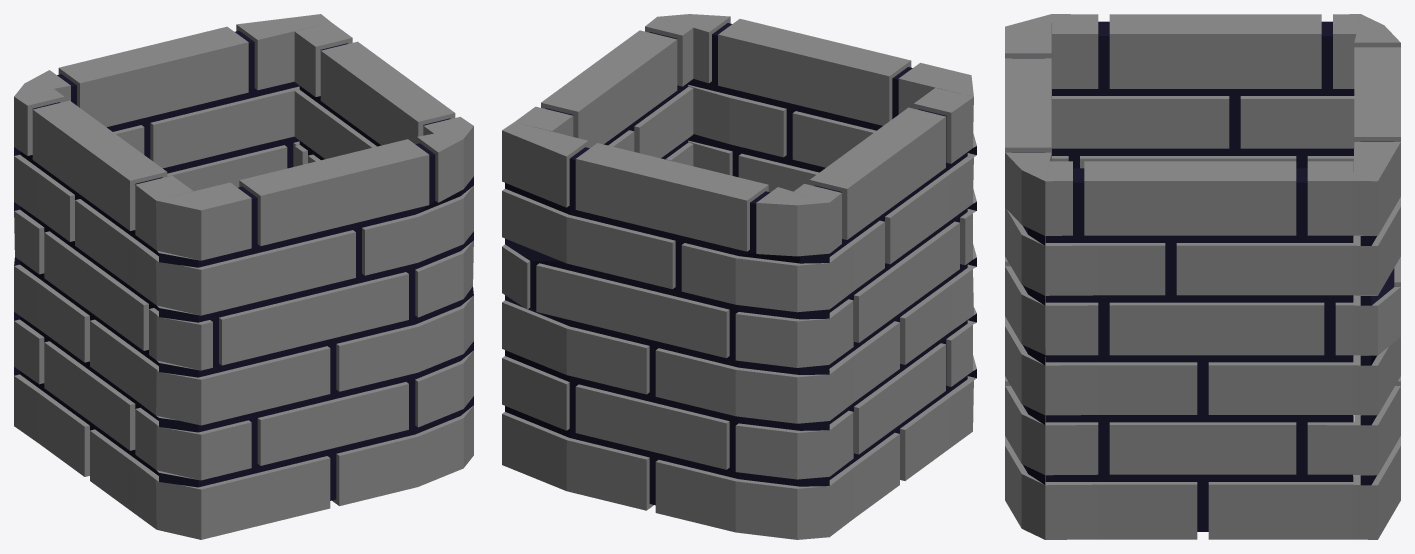
Rendered from allcornerswall.fbx.
3 views of the same model, side by side, from view 1: azimuth 30°, elevation 25°; view 2: azimuth 150°, elevation 25°; view 3: azimuth 270°, elevation 25° (orthographic). The views are drawn at different scales.
Parts seen in each view (by area): view 1: walloutpountingcorner; view 2: walloutpountingcorner; view 3: walloutpountingcorner.
Boxes of the visible parts, box(x1,y1,x2,y2) form: walloutpountingcorner: box(14, 14, 473, 539); walloutpountingcorner: box(502, 14, 976, 539); walloutpountingcorner: box(1005, 14, 1400, 539).
Bounding box in the file's own units: 200 × 200 × 200.
